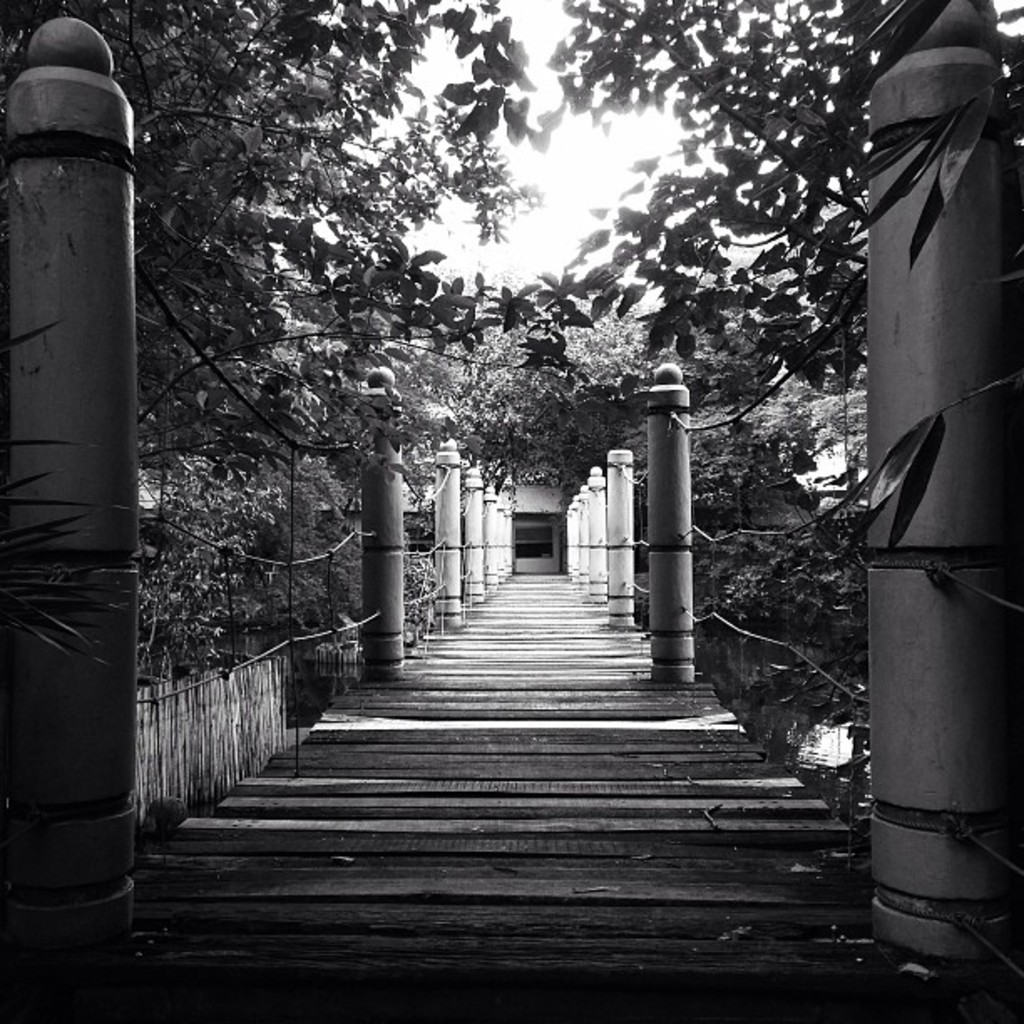Tree: (3, 0, 540, 517), (538, 0, 895, 732)
